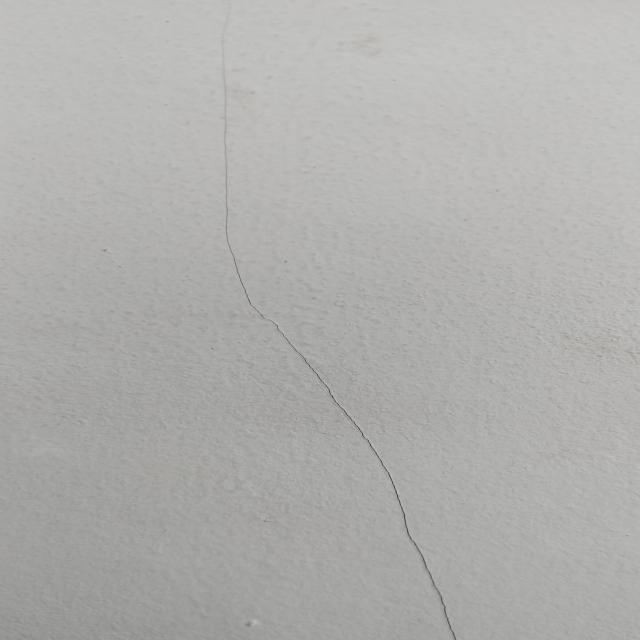Crack: (213, 2, 467, 640)
